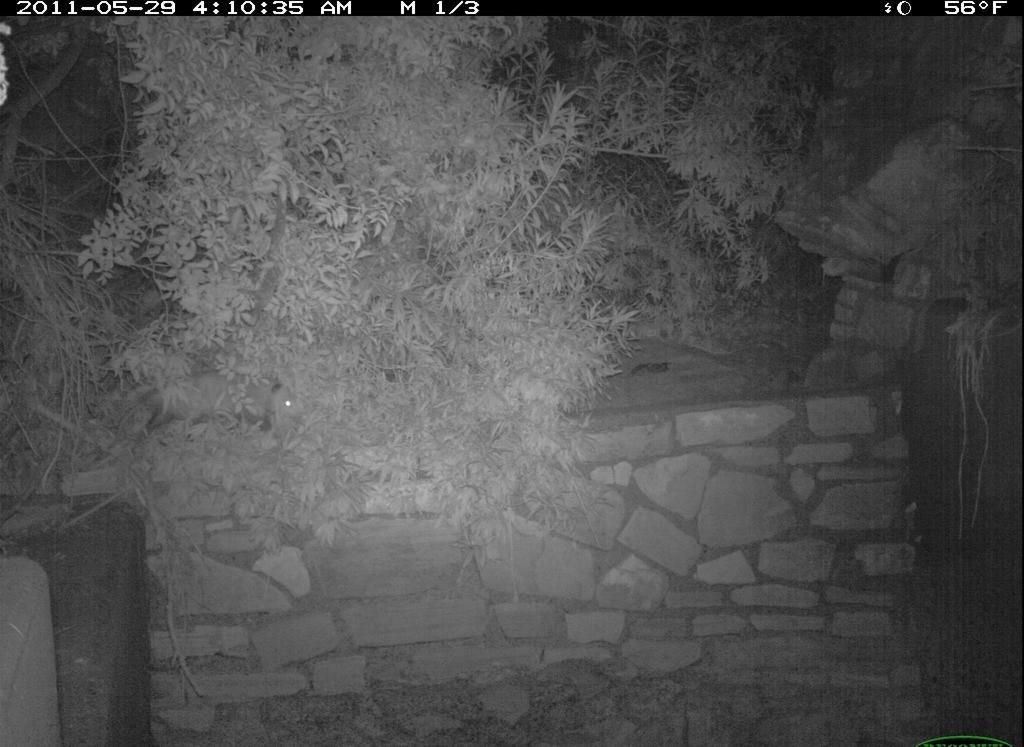opossum: (139, 365, 312, 455)
